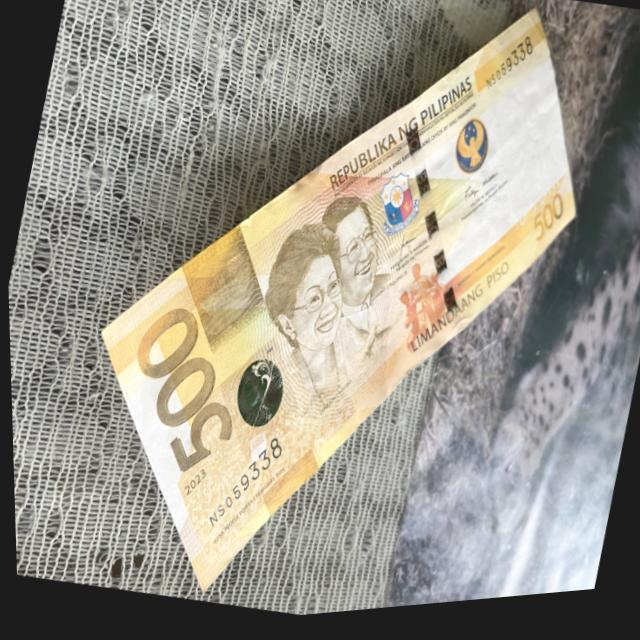concealed_value: (177, 231, 265, 353)
optically_variable_device: (225, 344, 295, 451)
security_thread: (397, 123, 462, 336)
serial_number: (197, 425, 289, 544), (477, 35, 539, 113)
value: (118, 309, 240, 493)
